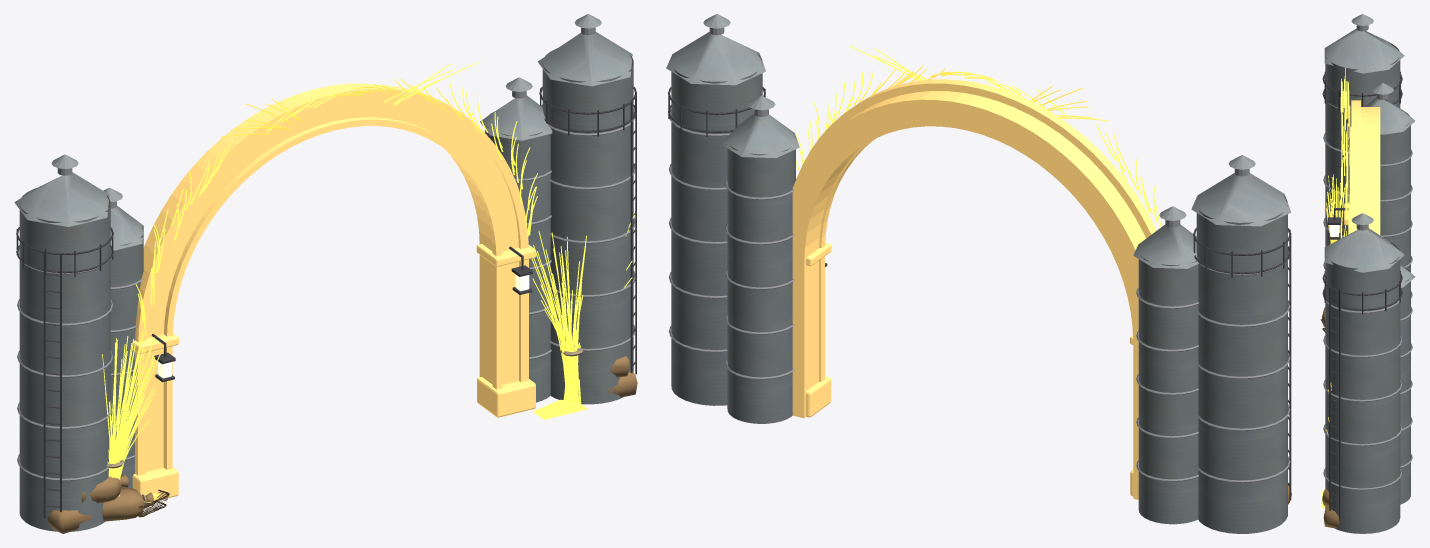
The model's file is fachada_09.glb.
3 views of the same model, side by side, from view 1: azimuth 30°, elevation 25°; view 2: azimuth 150°, elevation 25°; view 3: azimuth 270°, elevation 25° (orthographic). The views are drawn at different scales.
Parts seen in each view (by area): view 1: F09_chapa, F09_ouro, F09_trigo, F09_telha, F09_ferro, F09_juta, F09_aro; view 2: F09_chapa, F09_ouro, F09_telha, F09_aro, F09_trigo, F09_ferro; view 3: F09_chapa, F09_telha, F09_ouro, F09_ferro, F09_aro, F09_trigo, F09_juta.
Part boxes in pixels (box(x1,y1,x2,y2)): F09_chapa: box(19, 48, 633, 531); F09_ouro: box(132, 83, 536, 500); F09_trigo: box(102, 62, 634, 502); F09_telha: box(14, 14, 632, 250); F09_ferro: box(16, 86, 636, 518); F09_juta: box(47, 356, 637, 533); F09_aro: box(17, 109, 635, 480); F09_chapa: box(671, 54, 1287, 533); F09_ouro: box(792, 79, 1156, 499); F09_telha: box(666, 14, 1291, 268); F09_aro: box(669, 109, 1290, 482); F09_trigo: box(795, 45, 1161, 227); F09_ferro: box(668, 87, 1291, 500); F09_chapa: box(1325, 42, 1410, 533); F09_telha: box(1324, 14, 1415, 287); F09_ouro: box(1344, 100, 1380, 234); F09_ferro: box(1322, 72, 1402, 521); F09_aro: box(1323, 93, 1412, 490); F09_trigo: box(1322, 67, 1350, 507); F09_juta: box(1322, 287, 1339, 528).
Bounding box in the file's own units: 12.38 × 7.29 × 2.03.
Materials: 10 (4 with a texture image).
